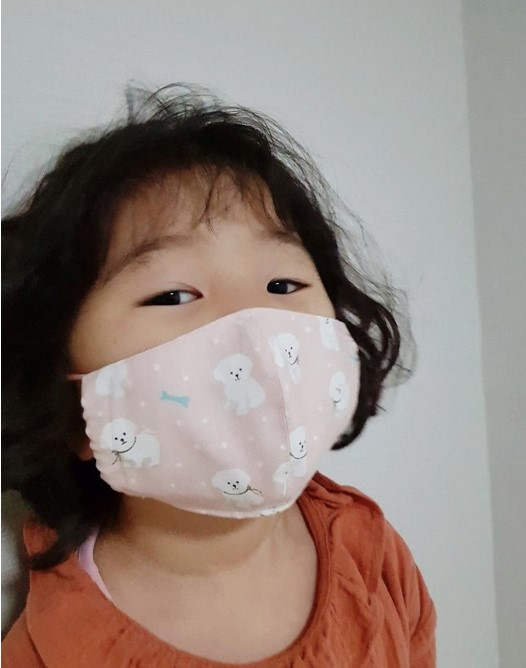face_with_mask: (10, 102, 374, 526)
